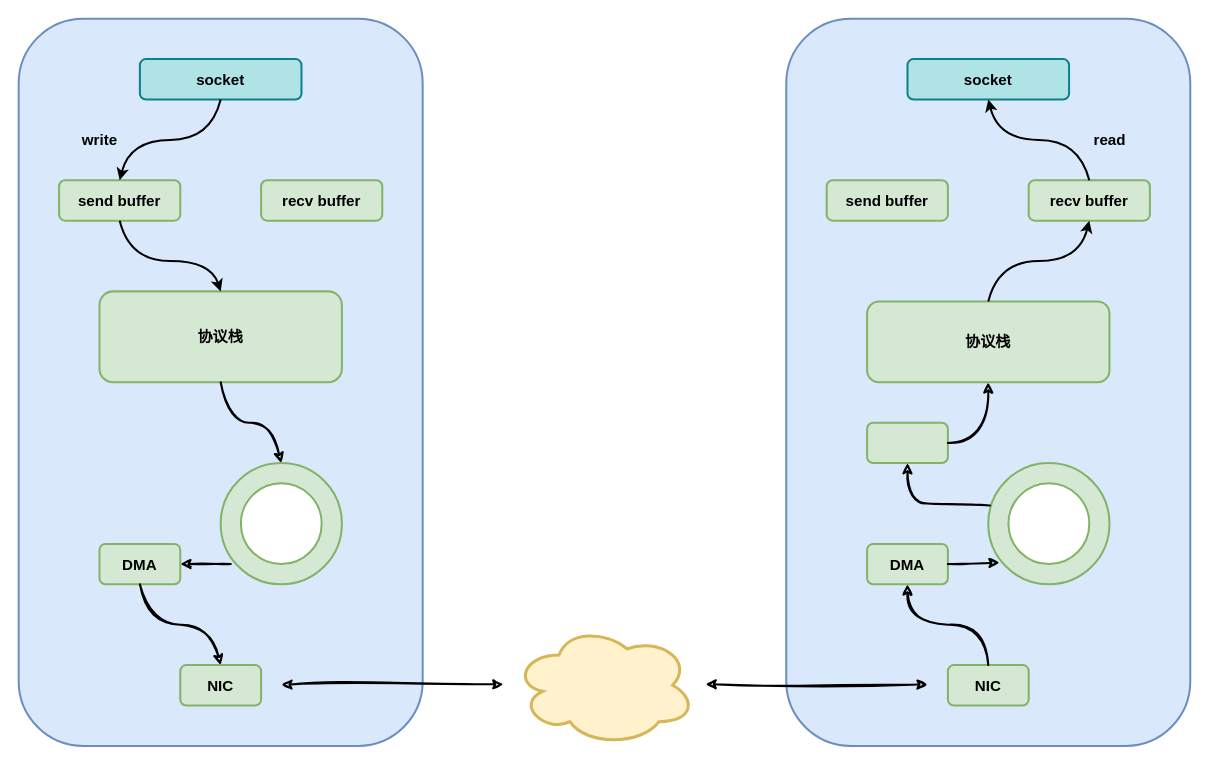
The diagram is 1208 pixels wide and 765 high, and some of its shapes have lost their labels. Each missing label, with the centre of its shape:
ksoftirqd: (x=907, y=442)
net: (x=604, y=685)
发包队列: (x=280, y=523)
收包队列: (x=1048, y=523)
